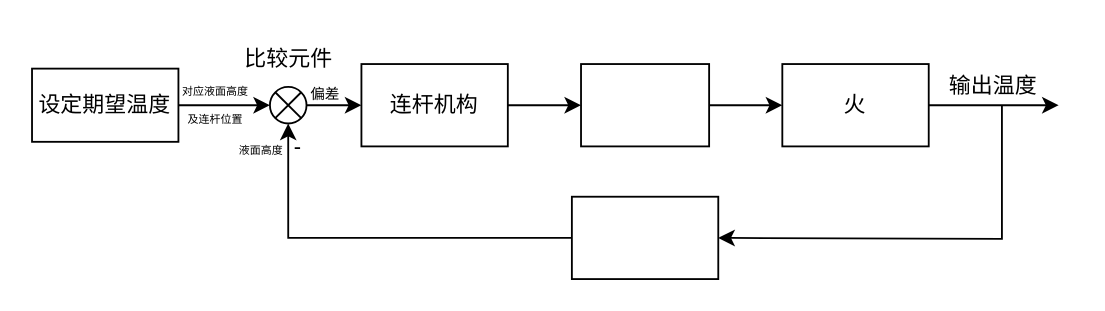
Image size: 1105x311. Some labels were removed from this diagram. Here are the shapes that lost their labels. From the top down, the centre of each, then its label:
At point 644,104: "气阀".
At point 644,237: "温度传感器 （酒精水银容器）".
